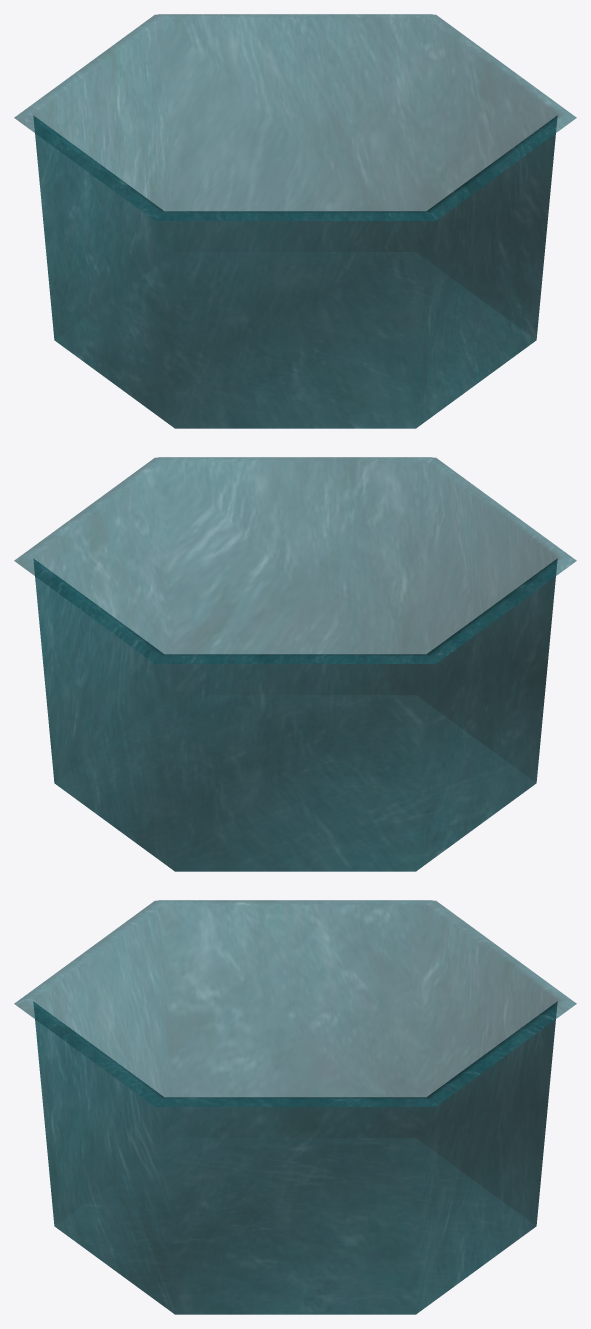
Rendered from deep-ocean.glb.
3 renders of one model, top to bottom at view 1: azimuth 30°, elevation 25°; view 2: azimuth 150°, elevation 25°; view 3: azimuth 270°, elevation 25°, orthographic.
Parts seen in each view (by area): view 1: Water; view 2: Water; view 3: Water.
Part boxes in pixels (bbox=[...]): Water: bbox=[14, 14, 576, 428]; Water: bbox=[14, 457, 576, 871]; Water: bbox=[14, 900, 576, 1314].
Bounding box in the file's own units: 1.73 × 0.8875 × 2.
Materials: 1 (1 with a texture image).
